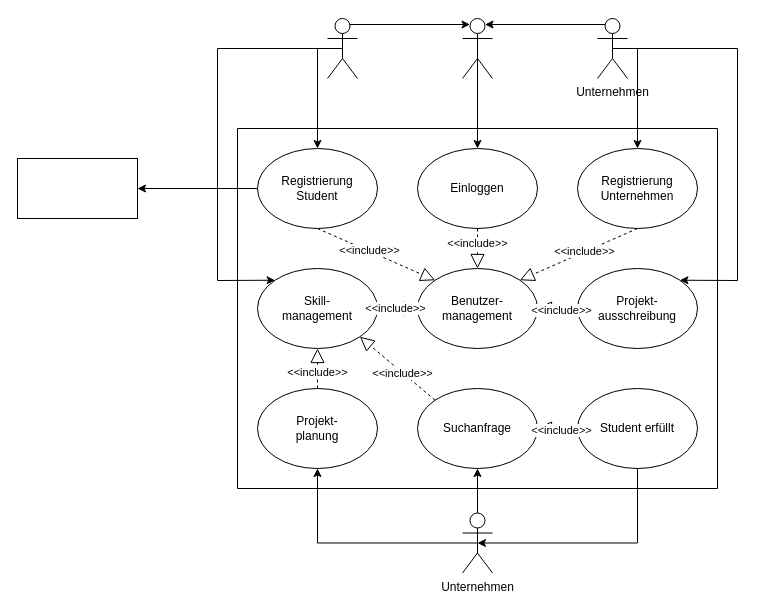
Some shapes in this 763 by 611 pixel diagram are drawn without their labels. Here are the shapes that lost their labels. From the top down, the box of each, then its label:
(326, 18, 358, 78): Student
(462, 18, 492, 78): {abstract}
(16, 158, 138, 218): Sis
